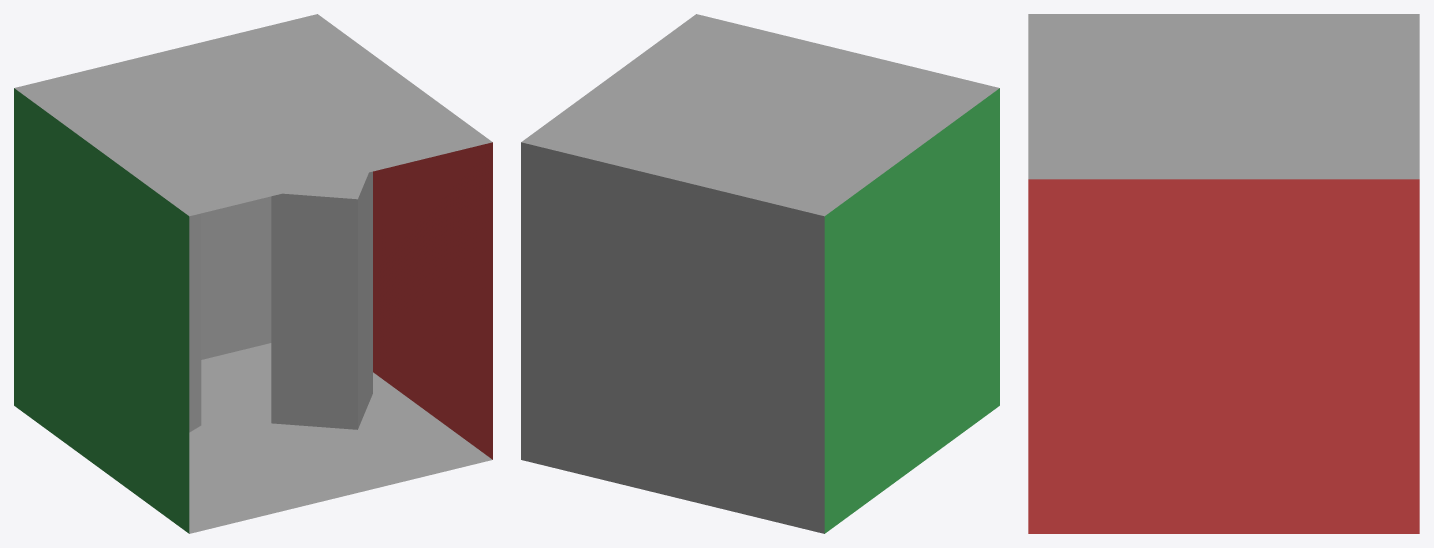
Rendered from cornell.glb.
3 views of the same model, side by side, from view 1: azimuth 30°, elevation 25°; view 2: azimuth 150°, elevation 25°; view 3: azimuth 270°, elevation 25° (orthographic). The views are drawn at different scales.
Visible parts, largest first — view 1: Cube, Cube.002, Cube.001; view 2: Cube; view 3: Cube.
Boxes of the visible parts, left/top/right/bottom form: Cube: left=14, top=14, right=492, bottom=533; Cube.002: left=271, top=171, right=372, bottom=429; Cube.001: left=189, top=213, right=201, bottom=432; Cube: left=521, top=14, right=999, bottom=533; Cube: left=1028, top=14, right=1419, bottom=533.
Size of the model in its own units: 2 by 2 by 2.
Materials: 3 (3 with a texture image).
